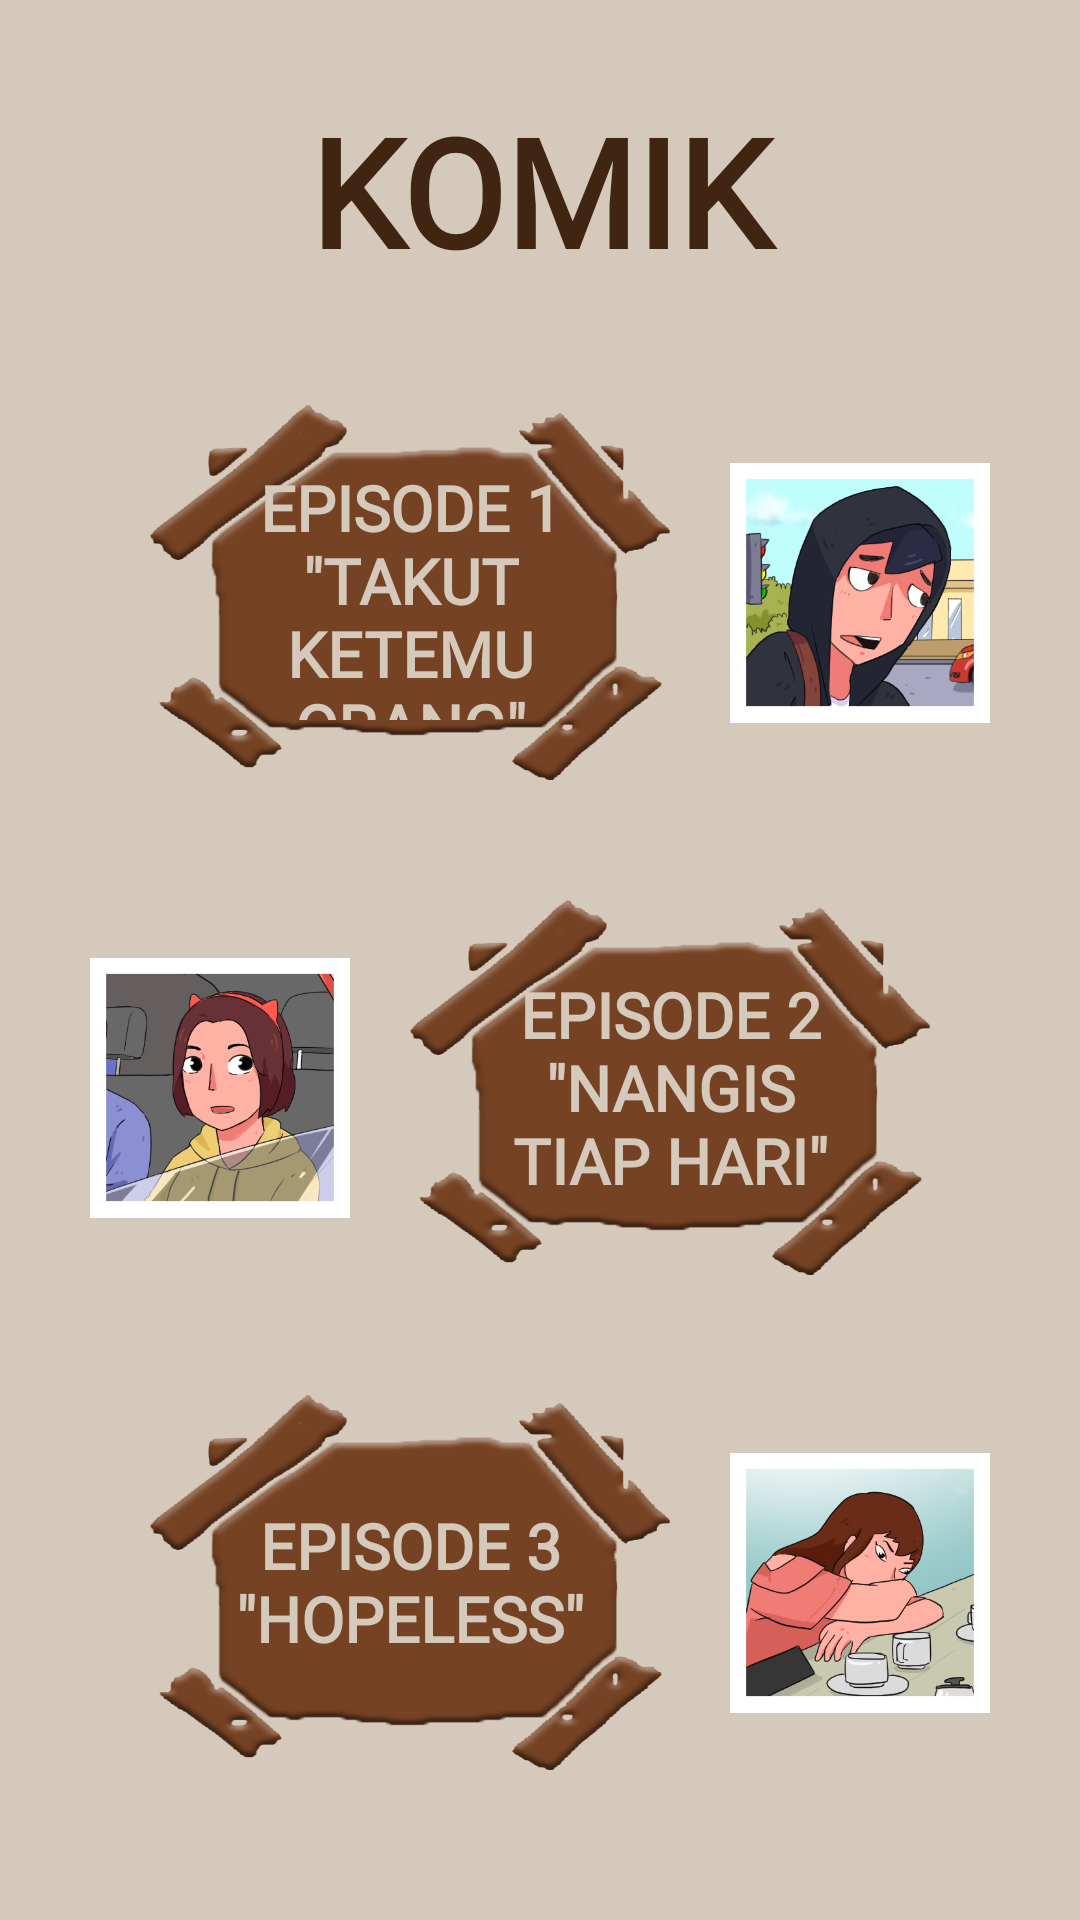

Icon click points for this 1080 x 1920 phone screenshot, format (x=x, y=y):
thumbnail: (x=860, y=593), (x=220, y=1088), (x=860, y=1583)
